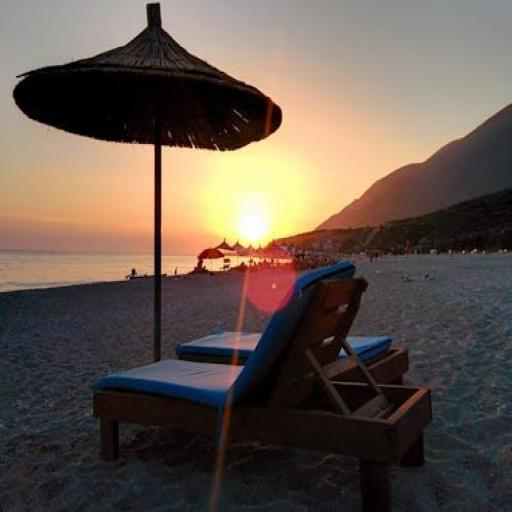guarda_chuva: (12, 0, 282, 361)
